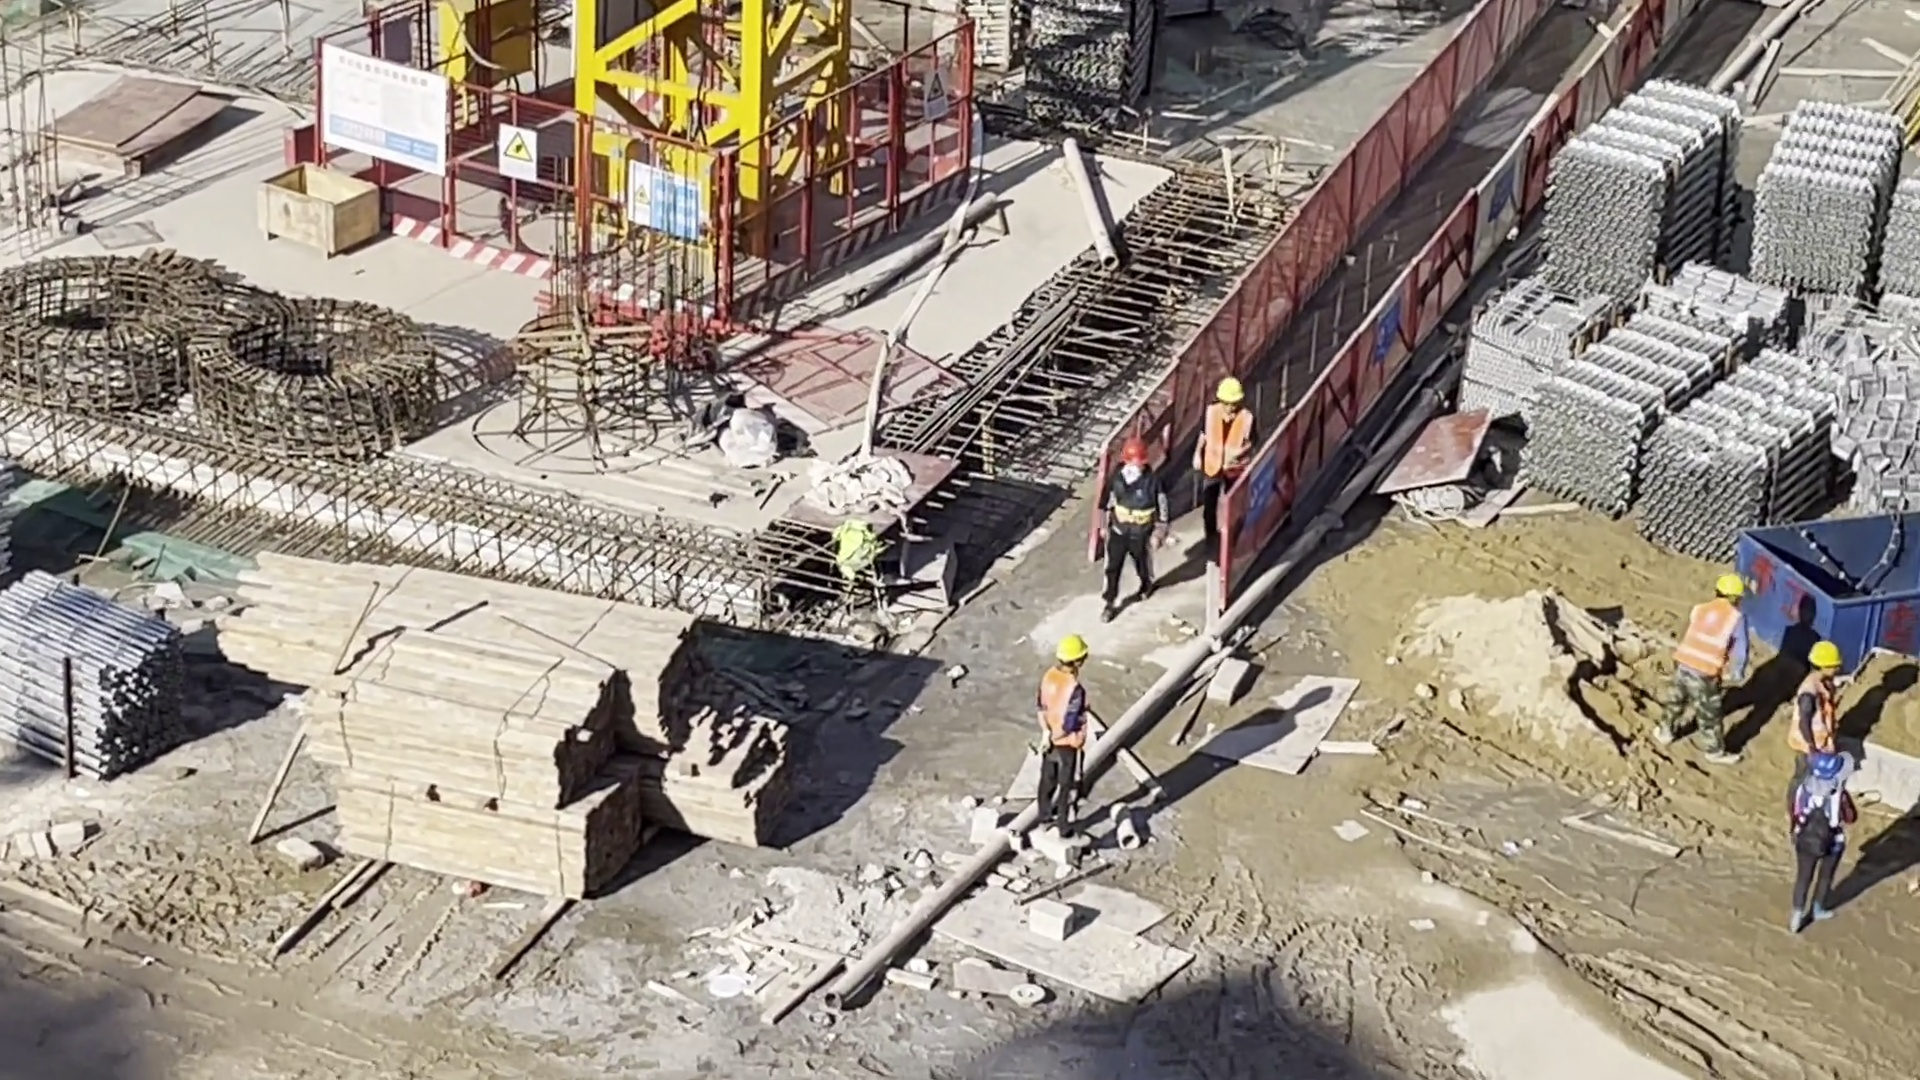board: (58, 91, 216, 172)
ebox: (433, 1, 532, 88)
fence: (1115, 1, 1671, 514)
helmet: (1807, 640, 1842, 671), (1808, 753, 1843, 785), (1055, 636, 1089, 664), (1118, 436, 1148, 463), (1715, 572, 1745, 599), (1216, 380, 1242, 402)
hopper: (1744, 506, 1920, 668), (1839, 646, 1920, 827)
person: (1674, 573, 1750, 766), (1033, 635, 1090, 835), (1105, 439, 1165, 627), (1193, 379, 1256, 541), (1792, 746, 1838, 935), (1798, 642, 1838, 803)
scaffold: (1539, 306, 1746, 512), (1546, 83, 1733, 299), (1646, 357, 1839, 561), (1, 571, 183, 774), (1755, 101, 1900, 300), (962, 1, 1150, 110)
slogan: (627, 162, 700, 239), (497, 124, 539, 179), (1252, 451, 1277, 519), (1374, 296, 1400, 358), (924, 69, 950, 116)
vest: (1679, 600, 1739, 669), (1038, 672, 1086, 743), (1202, 411, 1250, 477), (1801, 680, 1839, 749)
wood: (252, 558, 698, 747), (327, 639, 639, 900)
